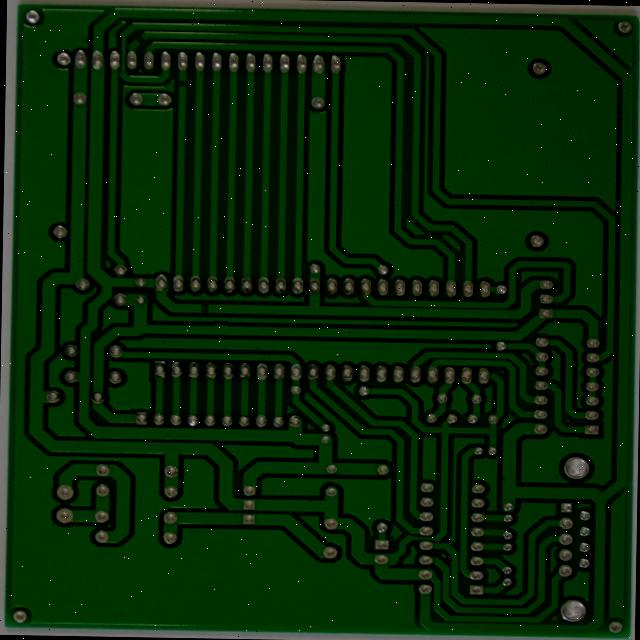open_circuit: (184, 80, 204, 95), (141, 35, 157, 50), (212, 317, 226, 332)
